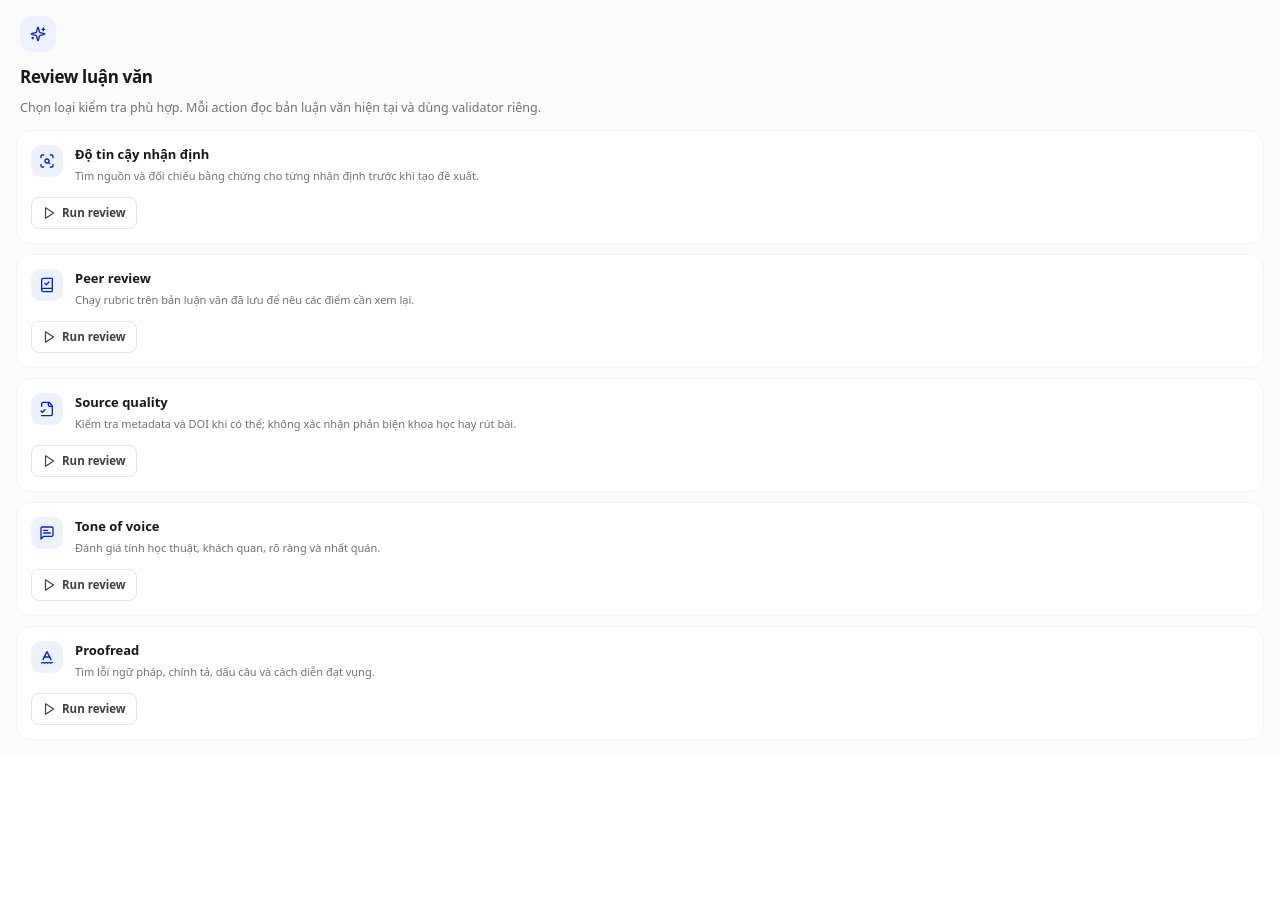
it: ReviewPanel › keeps the previous result visible when a rerun fails
The image size is (1280, 900).
Click the button "Run review" below "Độ tin cậy nhận định". click: [84, 212]
box: 31,196 -> 137,228
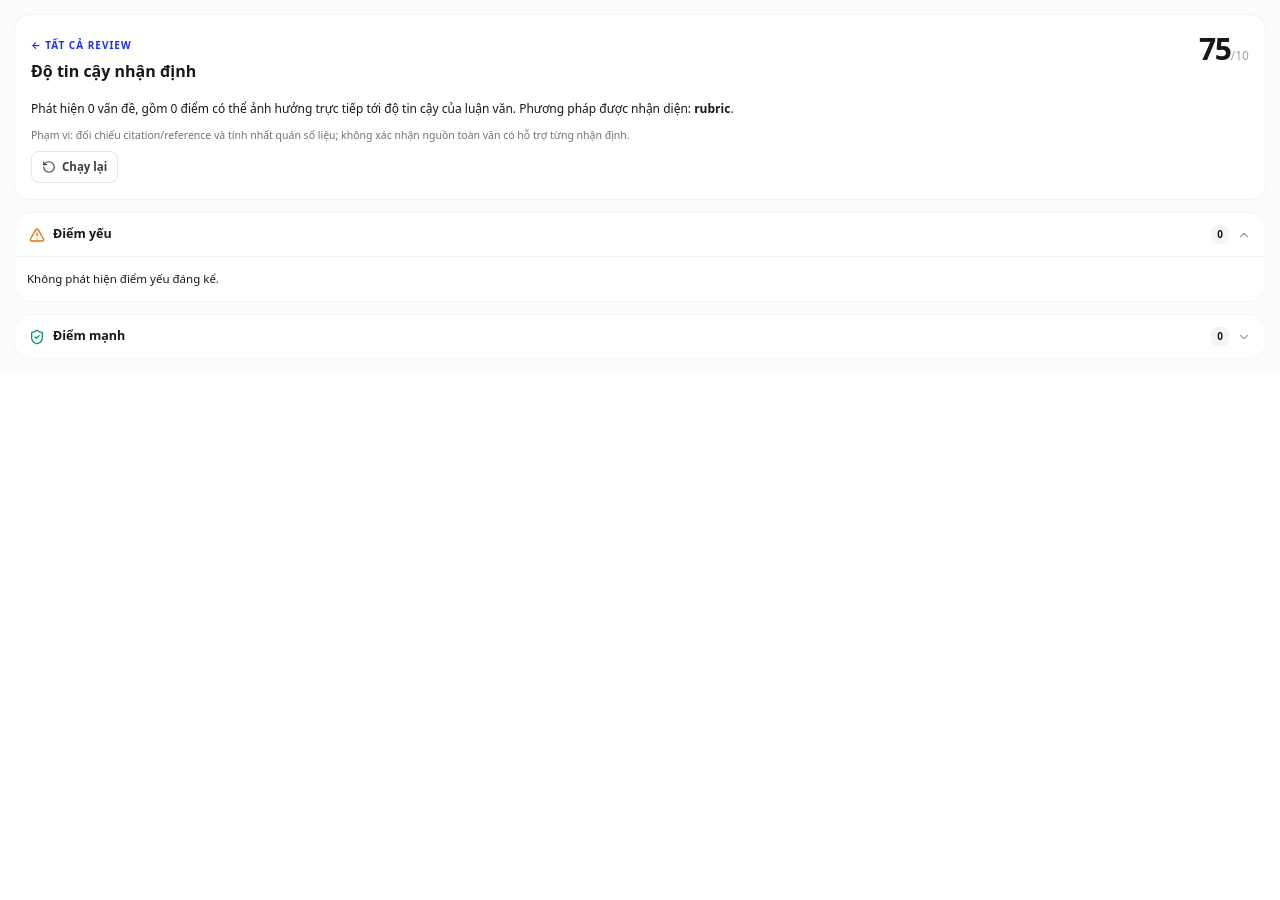
Result: the text "75" is shown at 1199,28 -> 1231,69
Click the button "Chạy lại". click: [75, 167]
box: 31,151 -> 118,183
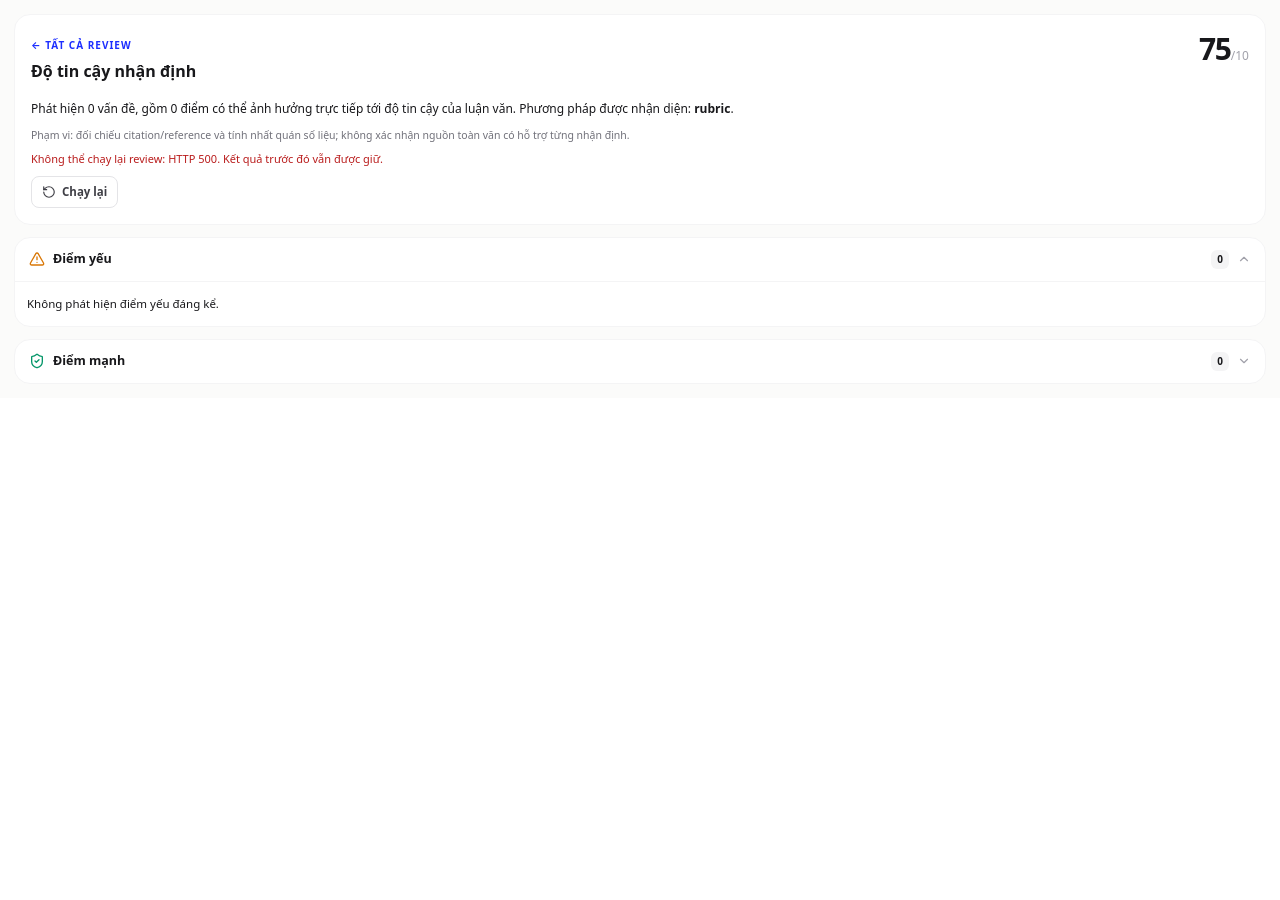
Result: the text "75" is shown at 1199,28 -> 1231,69
Result: the message shows "Kết quả trước đó vẫn được giữ" at 217,151 -> 383,166
